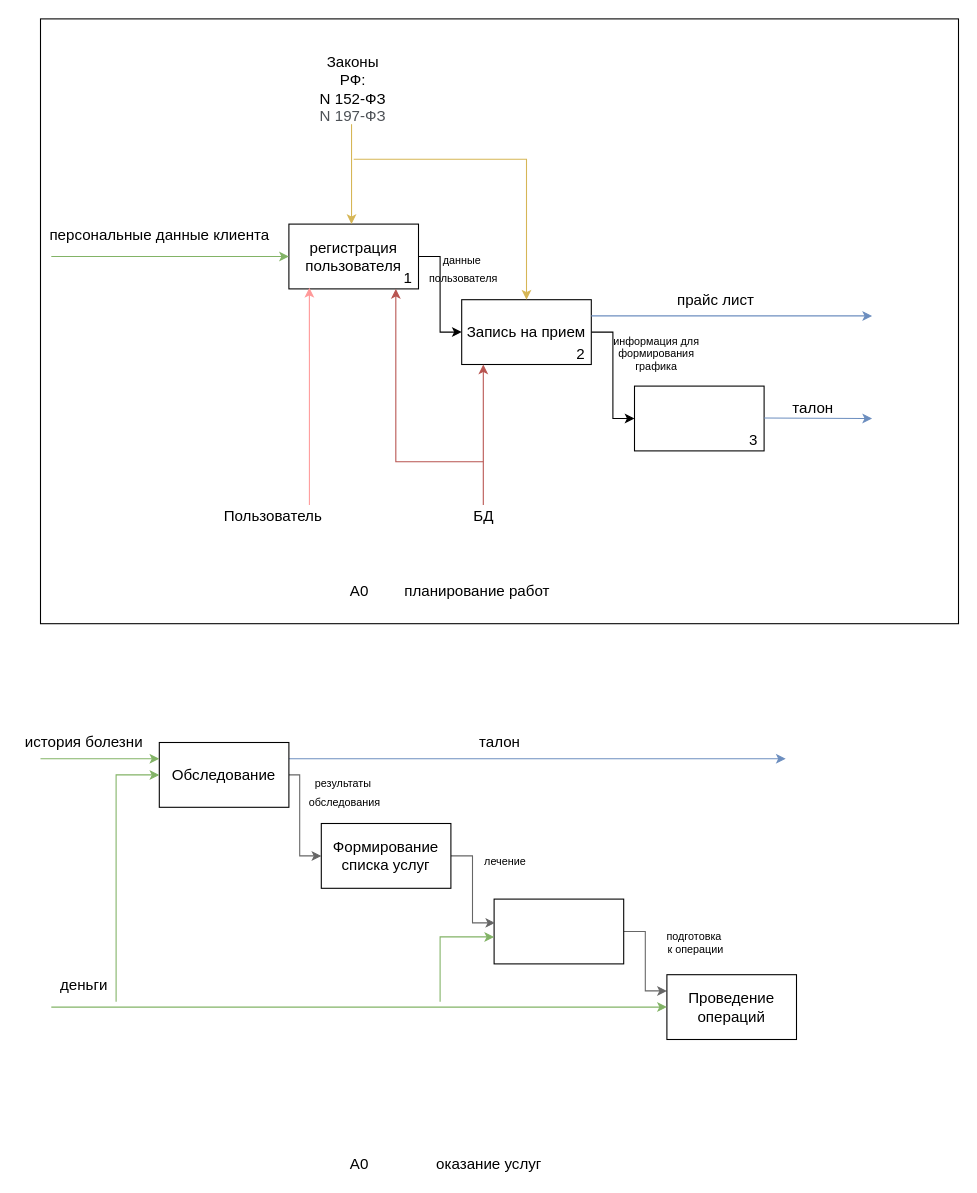
This 977x1193 diagram has some shape labels left out. Here are the shapes that lost their labels. From the top down, the box of each, then its label:
(633, 385, 764, 451): график проводимых работ
(493, 898, 624, 964): Госпитализация
